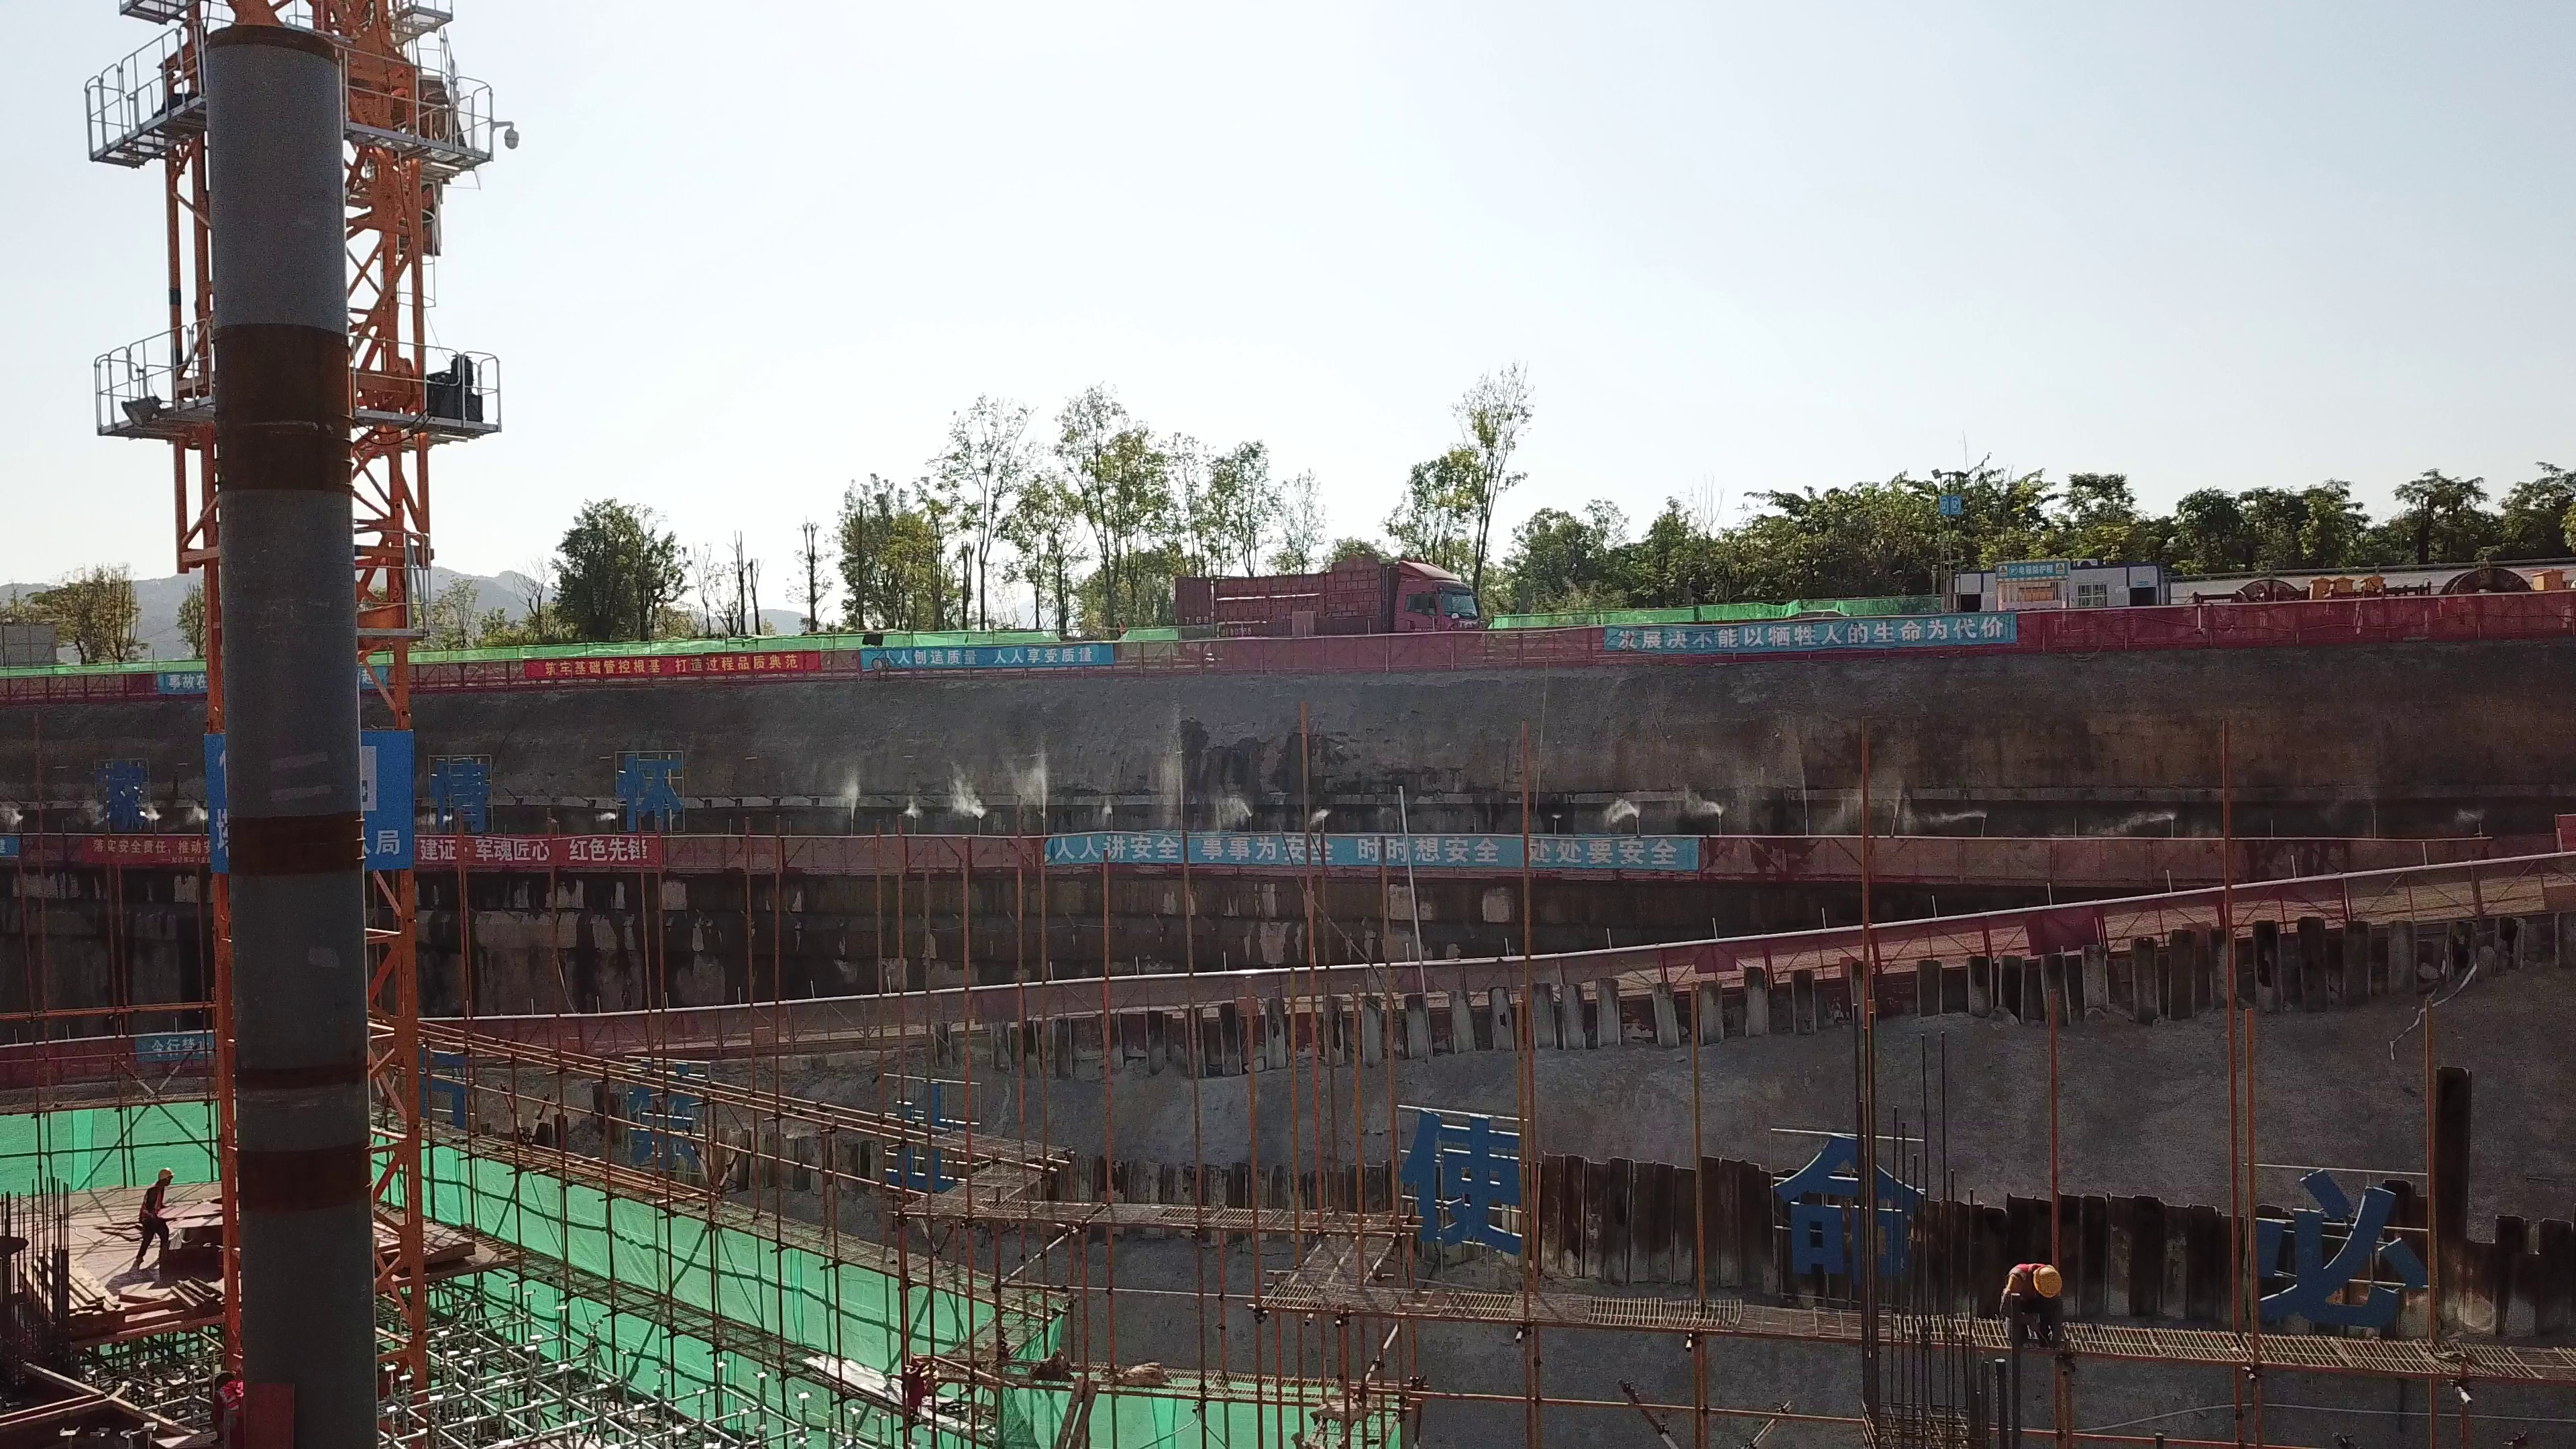fence: (1701, 818, 2274, 881), (2019, 598, 2556, 646), (1116, 623, 1599, 675), (1877, 910, 2102, 992), (2097, 884, 2343, 958), (2344, 862, 2568, 938), (667, 830, 1045, 871), (1662, 928, 1877, 998)
helmet: (2034, 1260, 2066, 1300), (156, 1165, 176, 1182)
person: (1986, 1243, 2091, 1352), (123, 1161, 186, 1280)
slogan: (1046, 824, 1697, 871), (1602, 614, 2014, 655), (416, 832, 665, 867), (859, 638, 1111, 670), (522, 647, 809, 675), (150, 664, 400, 690), (78, 833, 217, 863)
vest: (137, 1183, 166, 1227), (2009, 1254, 2036, 1297)
